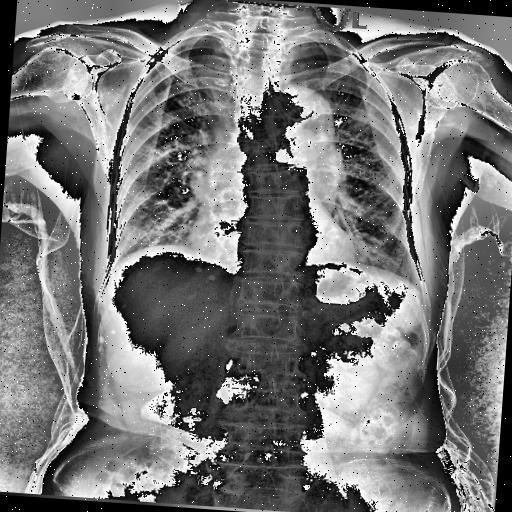0- Aortic enlargement: (260, 80, 336, 160), (268, 83, 338, 143), (268, 84, 336, 140)
3- Cardiomegaly: (188, 204, 358, 266), (188, 220, 356, 281), (186, 218, 362, 272)
9- Other lesion: (142, 134, 202, 216)
